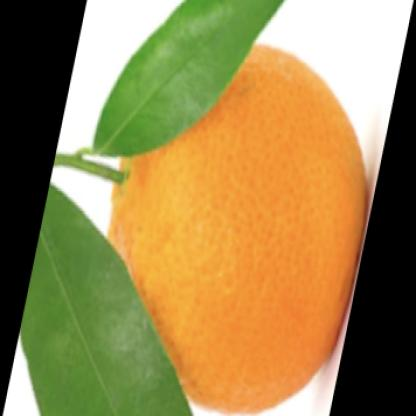fresh: (76, 35, 366, 415)
